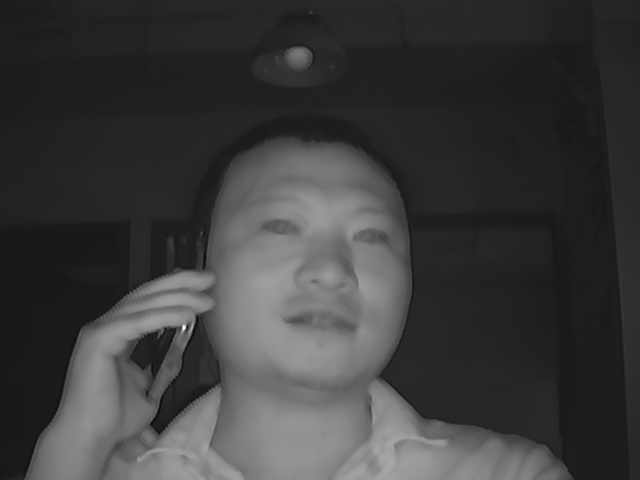hand: (58, 266, 211, 456)
